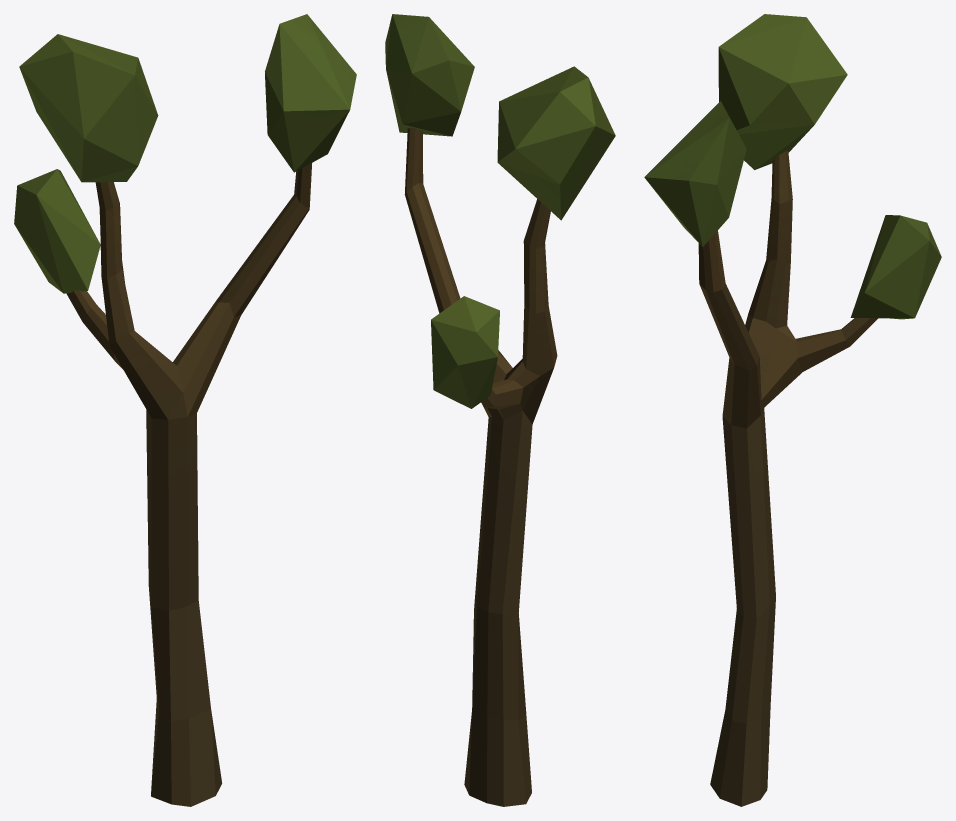
File: Tree2Stage2.fbx
3 renders of one model, left to right at view 1: azimuth 30°, elevation 25°; view 2: azimuth 150°, elevation 25°; view 3: azimuth 270°, elevation 25°, orthographic. The views are drawn at different scales.
Parts seen in each view (by area): view 1: Tree2Stage2; view 2: Tree2Stage2; view 3: Tree2Stage2.
Boxes of the visible parts, x1,y1,x2,y2 form: Tree2Stage2: (14,14,356,806); Tree2Stage2: (385,14,615,806); Tree2Stage2: (644,14,941,806).
Size of the model in its own units: 61.94 by 163 by 60.26.
